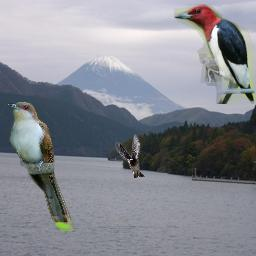Cuckoo: (6, 101, 73, 232)
Swallow: (115, 134, 145, 178)
Woodpecker: (174, 4, 255, 104)
